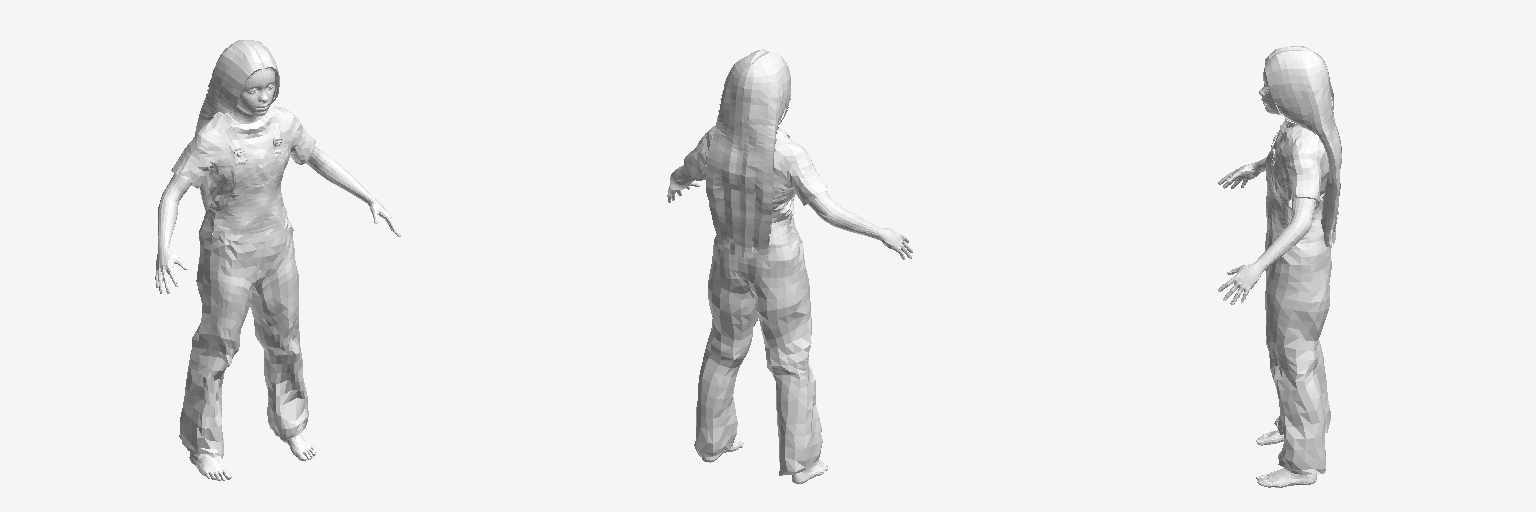
Rendered from Megan.obj.
3 views of the same model, side by side, from view 1: azimuth 30°, elevation 25°; view 2: azimuth 150°, elevation 25°; view 3: azimuth 270°, elevation 25° (orthographic).
Visible parts, largest first — view 1: male_worksuit01.obj, base.obj, long01.obj; view 2: male_worksuit01.obj, long01.obj, base.obj; view 3: male_worksuit01.obj, long01.obj, base.obj.
Boxes of the visible parts, <box> form: male_worksuit01.obj: <box>171,105,315,458</box>; base.obj: <box>155,70,400,480</box>; long01.obj: <box>195,40,279,213</box>; male_worksuit01.obj: <box>684,126,827,475</box>; long01.obj: <box>706,49,790,260</box>; base.obj: <box>667,165,912,483</box>; male_worksuit01.obj: <box>1265,119,1331,474</box>; long01.obj: <box>1265,46,1341,246</box>; base.obj: <box>1218,68,1316,487</box>.
Bounding box in the file's own units: 7.32 × 12.11 × 3.29.